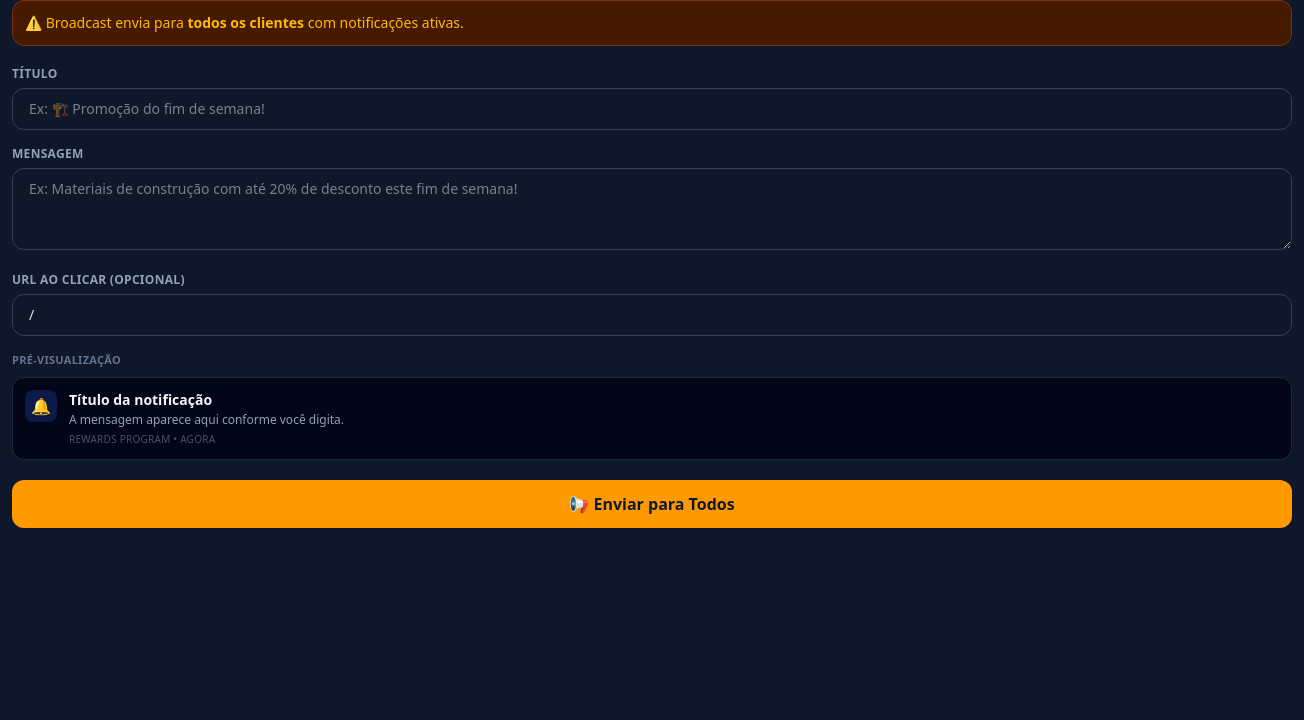
Test case: BroadcastTab › envia o broadcast quando confirmado
Type "Oi pessoal" into the field with placeholder "Ex: 🏗️ Promoção do fim de semana!" at (652, 109), box [12,88,1292,130]
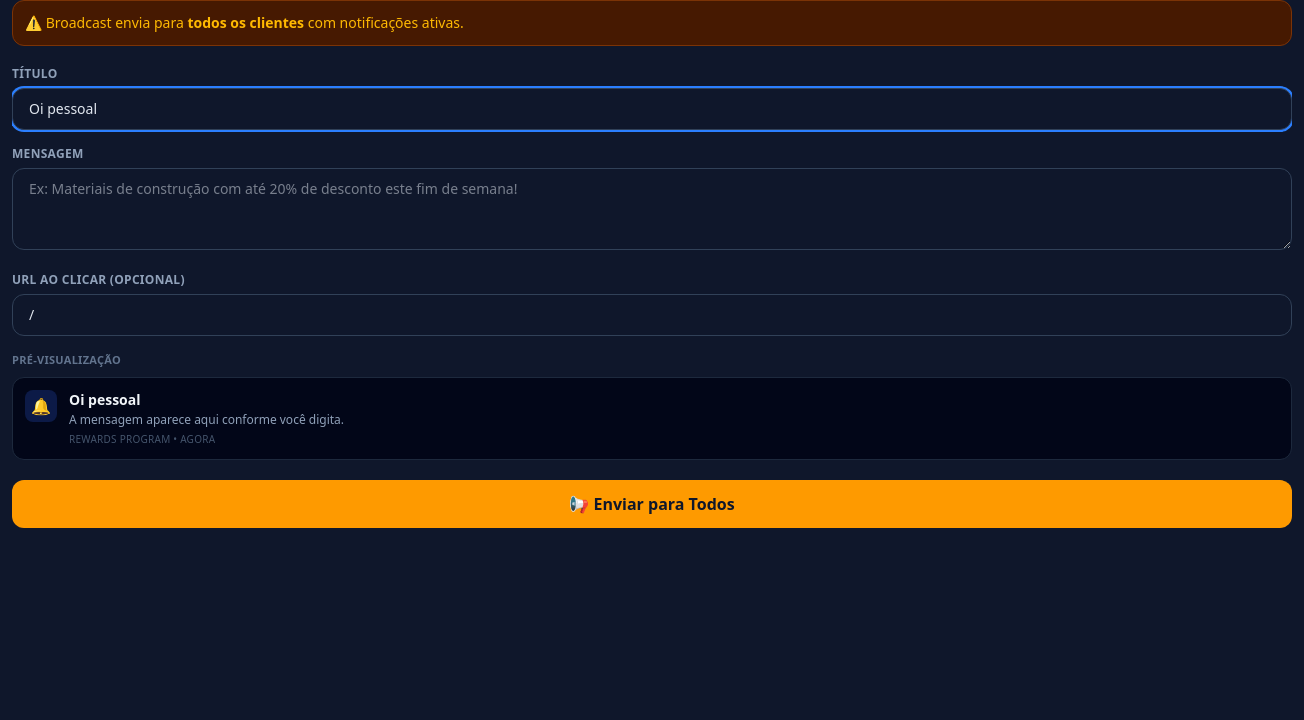
Type "Mensagem broadcast" into the text box with placeholder "Materiais de construção" at (652, 209), box [12,168,1292,250]
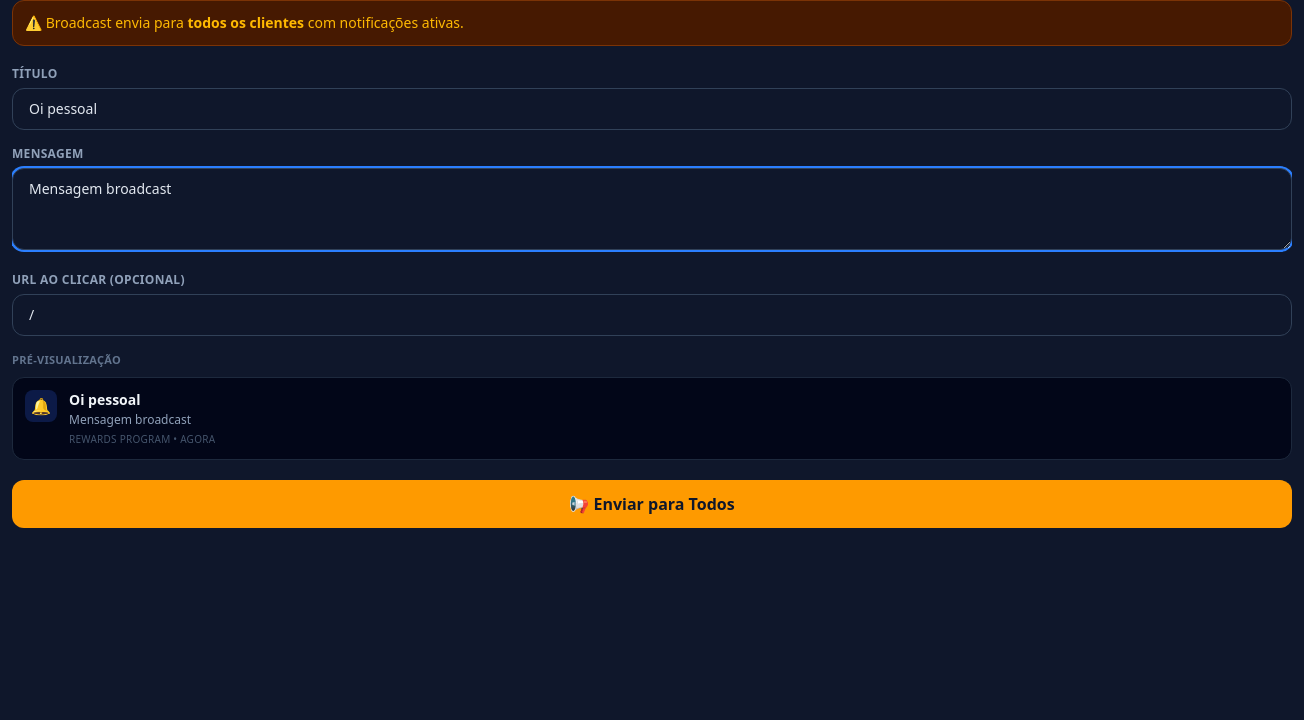
Click the button "📢 Enviar para Todos" at (652, 504), box [12,480,1292,528]
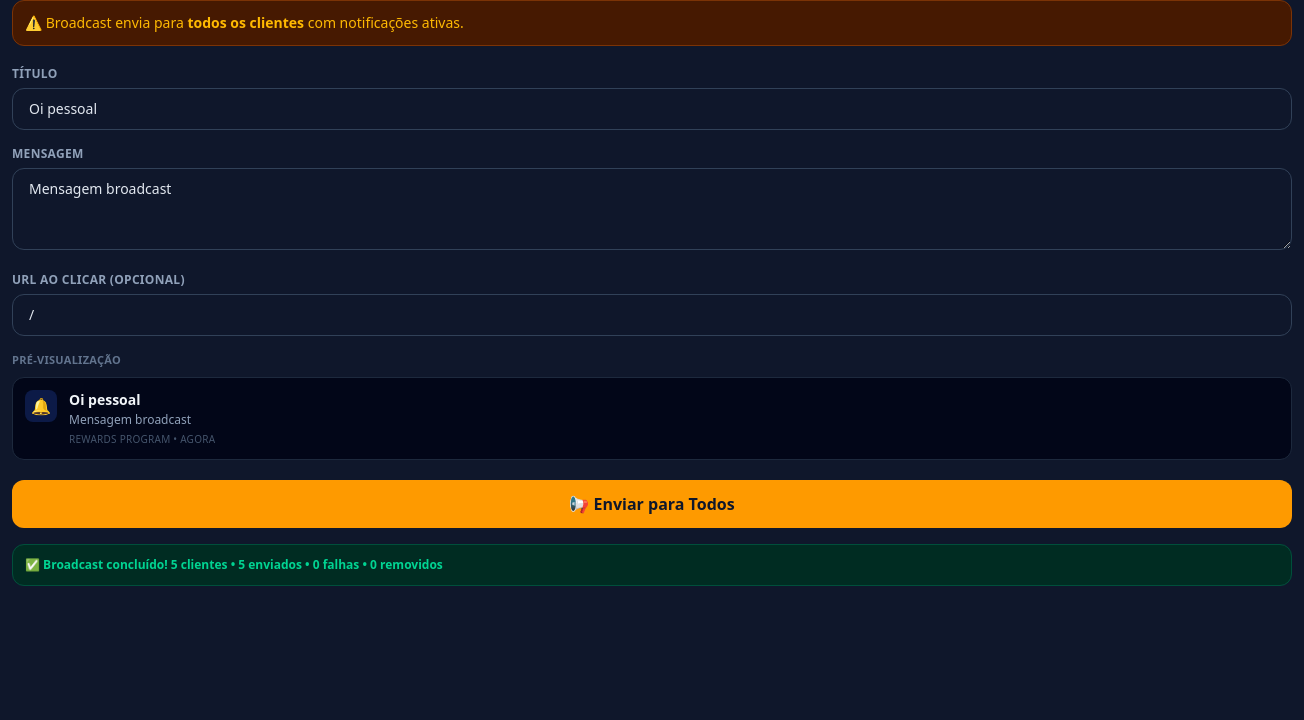
Result: the text "5 clientes" is shown at [25,556,443,572]
